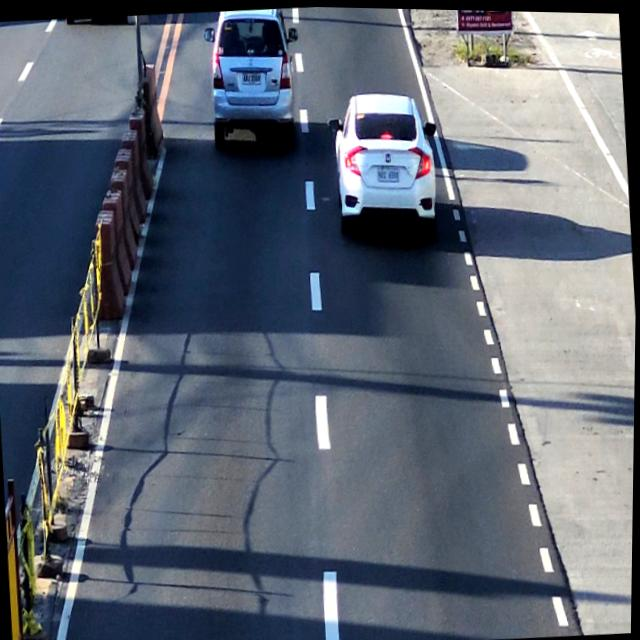Car: (329, 83, 443, 236)
License-Plate: (203, 5, 299, 156), (375, 162, 401, 183), (239, 69, 263, 85)
